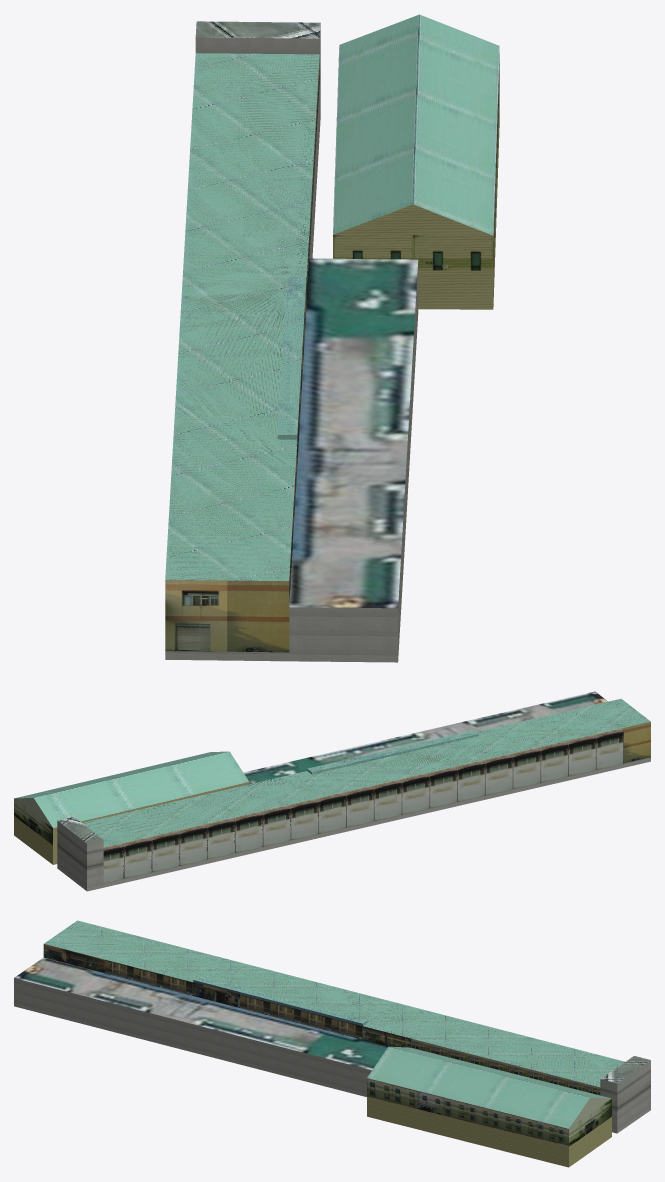
3 views of the same model, one above another, from view 1: azimuth 30°, elevation 25°; view 2: azimuth 150°, elevation 25°; view 3: azimuth 270°, elevation 25° (orthographic). The views are drawn at different scales.
Parts seen in each view (by area): view 1: SketchUp (×13); view 2: SketchUp (×13); view 3: SketchUp (×21).
Part boxes in pixels (bbox=[...]): SketchUp (×13): bbox=[165, 14, 499, 662]; SketchUp (×13): bbox=[14, 691, 650, 891]; SketchUp (×21): bbox=[14, 920, 650, 1167].
Size of the model in its own units: 3357 by 4402 by 419.
Materials: 31 (29 with a texture image).
